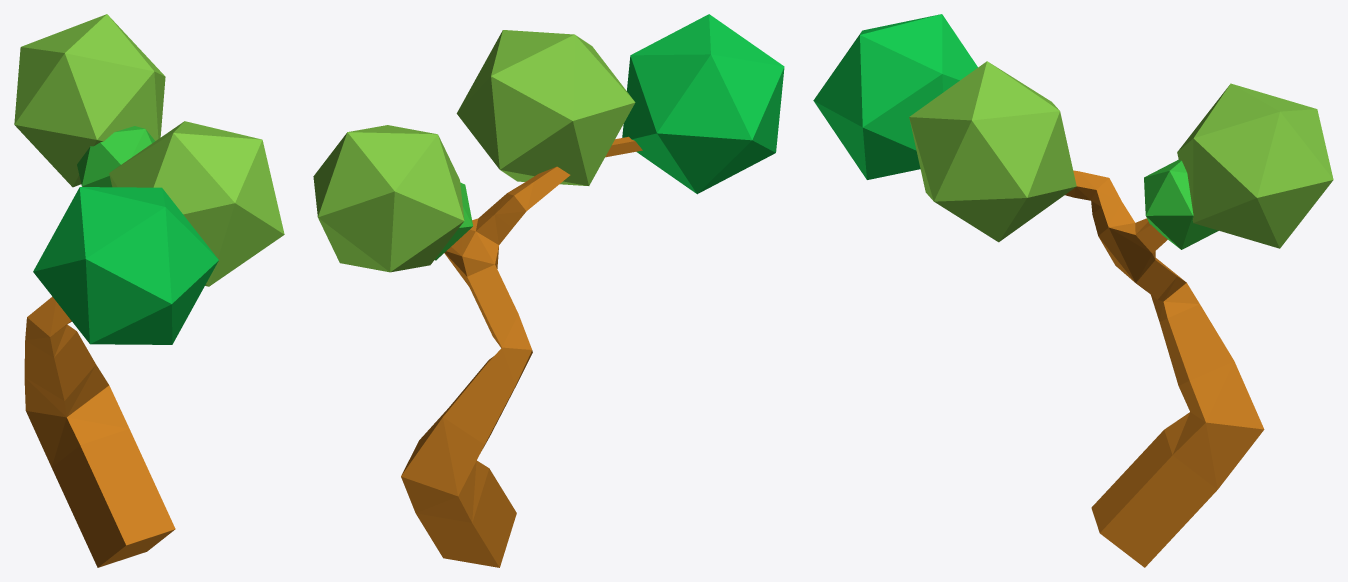
The model's file is tree.obj.
3 views of the same model, side by side, from view 1: azimuth 30°, elevation 25°; view 2: azimuth 150°, elevation 25°; view 3: azimuth 270°, elevation 25° (orthographic). The views are drawn at different scales.
Visible parts, largest first — view 1: Icosphere.002, Cube, Icosphere, Icosphere.003, Icosphere.001; view 2: Cube, Icosphere.002, Icosphere.003, Icosphere, Icosphere.001; view 3: Cube, Icosphere.003, Icosphere, Icosphere.002, Icosphere.001.
Boxes of the visible parts, x1,y1,x2,y2 form: Icosphere.002: (33,187,218,344); Cube: (24,296,175,567); Icosphere: (14,14,165,187); Icosphere.003: (109,121,284,286); Icosphere.001: (77,126,155,187); Cube: (401,136,642,567); Icosphere.002: (622,14,784,194); Icosphere.003: (456,30,635,185); Icosphere: (313,125,464,272); Icosphere.001: (435,182,472,260); Cube: (1065,170,1264,567); Icosphere.003: (909,61,1076,242); Icosphere: (1177,83,1333,248); Icosphere.002: (813,14,977,179); Icosphere.001: (1144,159,1218,249).
Bounding box in the file's own units: 3.53 × 5.69 × 5.58.
